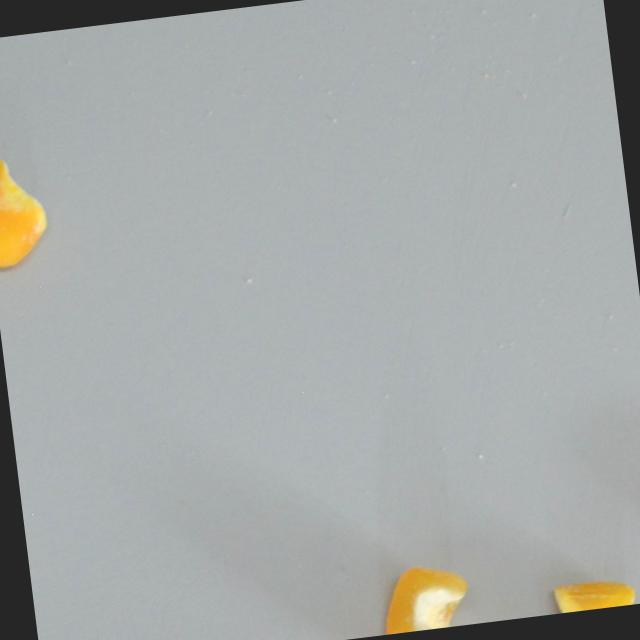no_canjicado: (525, 570, 640, 617)
no_desgerminado: (371, 556, 478, 635)
pelicula: (0, 147, 55, 269)
